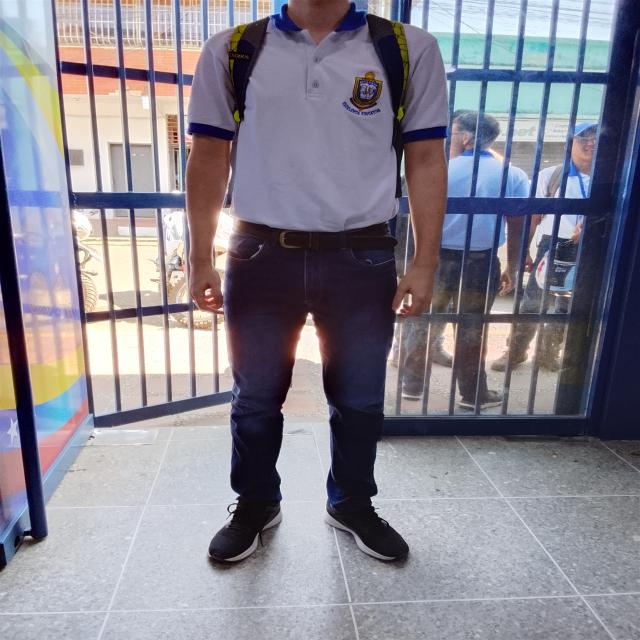carnet: (576, 212, 586, 227)
pantalon_oscuro: (223, 233, 399, 510)
uniforme_superior: (186, 1, 451, 232), (431, 150, 531, 250)
